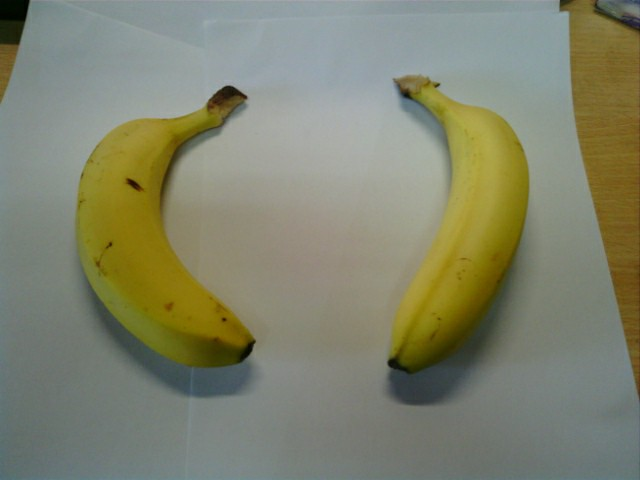fresh_banana: (387, 72, 532, 377)
normal_banana: (76, 84, 256, 370)
